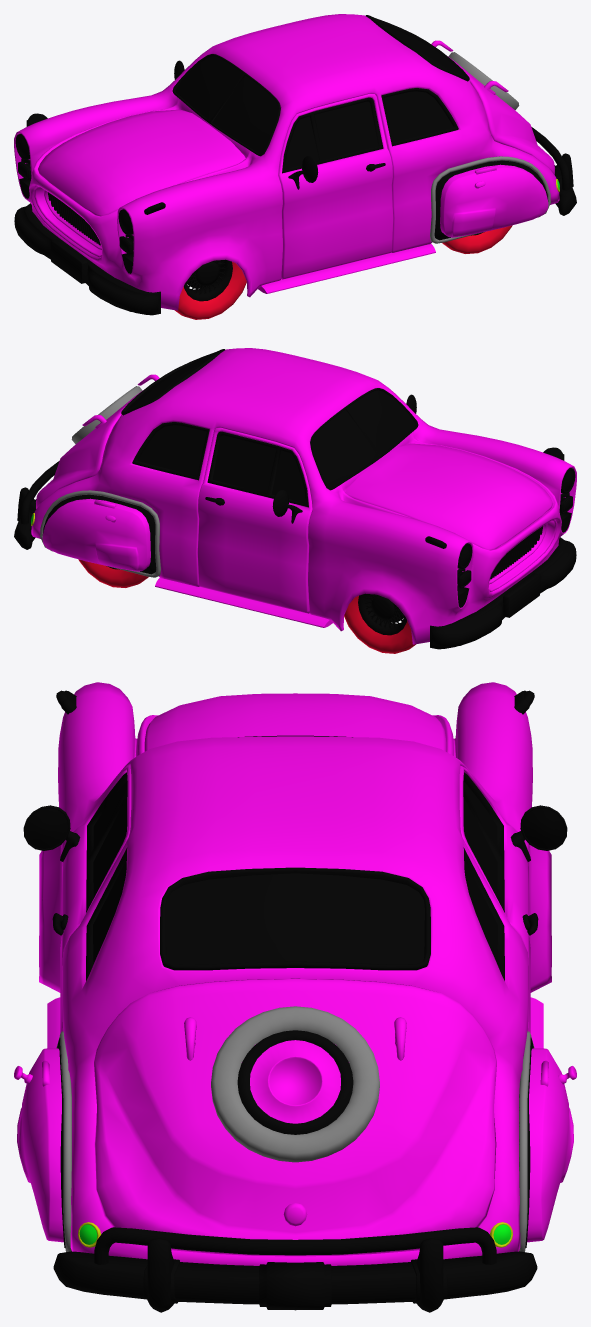
File: brown_car.fbx
The picture shows the model from 3 angles, top to bottom: view 1: azimuth 30°, elevation 25°; view 2: azimuth 150°, elevation 25°; view 3: azimuth 270°, elevation 25°; orthographic projection. The views are drawn at different scales.
Parts seen in each view (by area): view 1: cheqi, Brown_car21001_1, chedeng, chetai, feijinshu; view 2: cheqi, Brown_car21001_1, chedeng, chetai, feijinshu; view 3: cheqi, Brown_car21001_1, chedeng, feijinshu.
Boxes of the visible parts, x1,y1,x2,y2 form: cheqi: [14, 14, 559, 310]; Brown_car21001_1: [14, 15, 576, 315]; chedeng: [17, 21, 559, 273]; chetai: [175, 225, 512, 319]; feijinshu: [430, 52, 550, 243]; cheqi: [31, 348, 576, 644]; Brown_car21001_1: [14, 349, 576, 649]; chedeng: [31, 355, 573, 607]; chetai: [78, 559, 415, 653]; feijinshu: [40, 386, 160, 577]; cheqi: [14, 682, 576, 1265]; Brown_car21001_1: [23, 690, 567, 1312]; chedeng: [26, 782, 564, 1244]; feijinshu: [56, 1006, 534, 1251].
Bounding box in the file's own units: 4.13 × 1.58 × 2.21.
